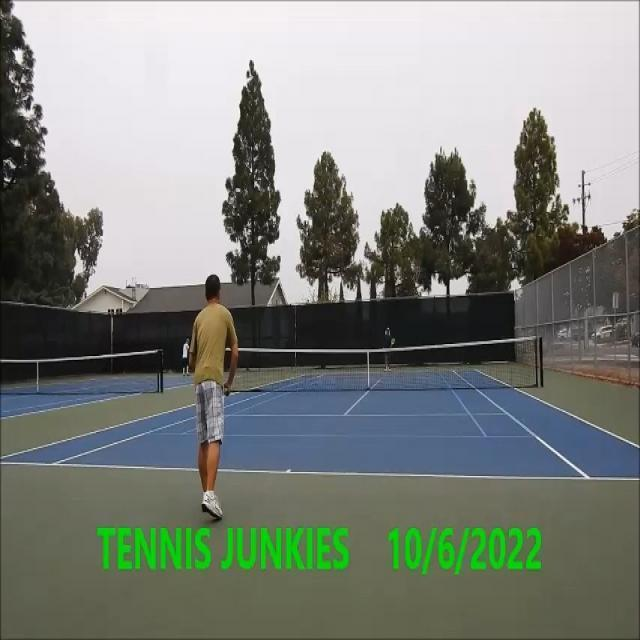court: (0, 370, 640, 480)
net: (214, 335, 546, 391)
player: (188, 274, 238, 521)
